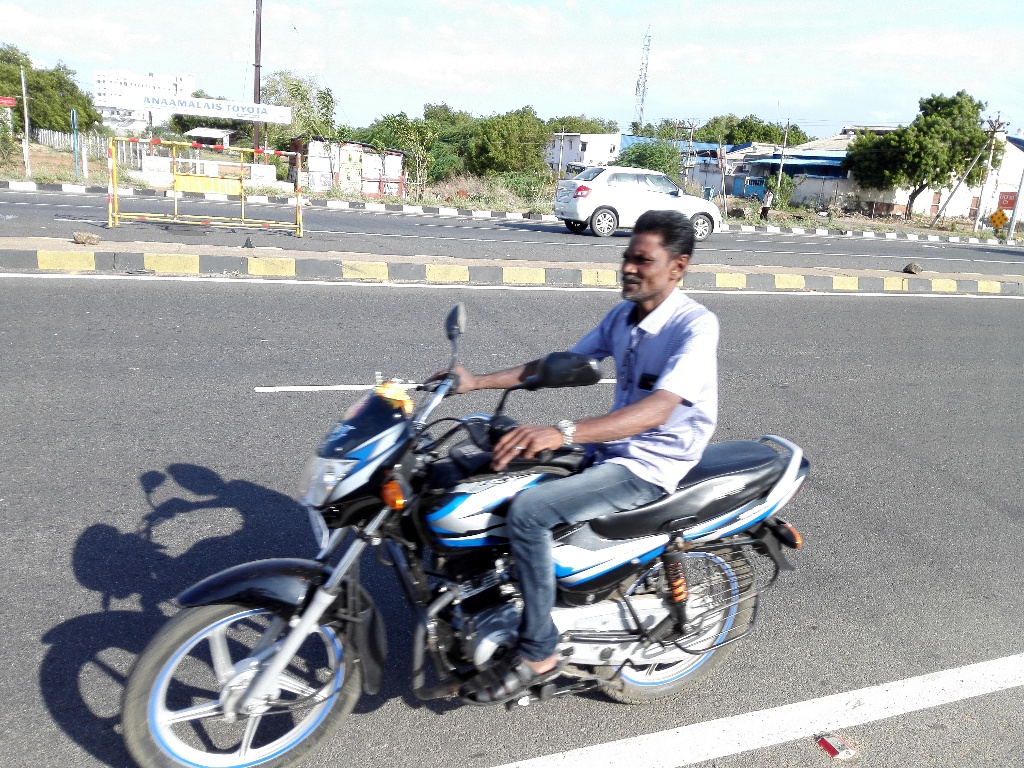biker: (100, 166, 836, 768)
nohelmet: (612, 201, 706, 313)
